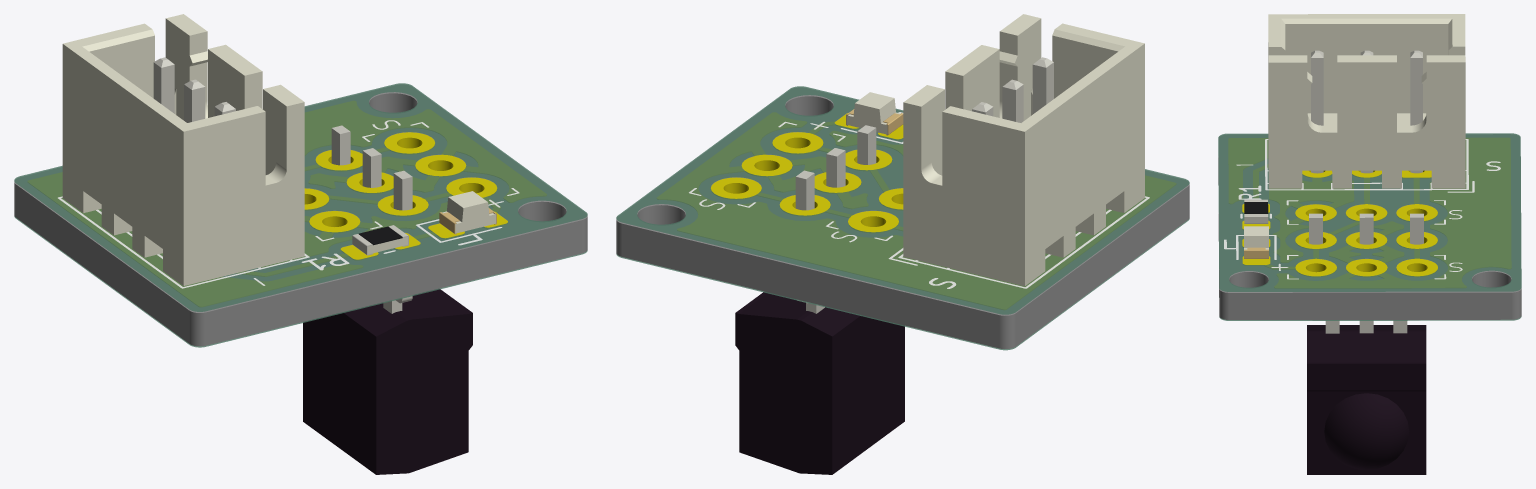
The picture shows the model from 3 angles, left to right: view 1: azimuth 30°, elevation 25°; view 2: azimuth 150°, elevation 25°; view 3: azimuth 270°, elevation 25°; orthographic projection. The views are drawn at different scales.
Parts seen in each view (by area): view 1: J1, J1.001, J1.002, J1.003, J1.004; view 2: J1, J1.001, J1.002, J1.003; view 3: J1, J1.001, J1.002, J1.003, J1.004.
Part boxes in pixels (x1,y1,x2,y2): J1: [14, 83, 587, 347]; J1.001: [62, 14, 304, 285]; J1.002: [303, 125, 472, 474]; J1.003: [439, 191, 496, 234]; J1.004: [352, 225, 408, 255]; J1: [616, 86, 1189, 350]; J1.001: [903, 14, 1144, 286]; J1.002: [735, 125, 904, 474]; J1.003: [846, 92, 903, 135]; J1: [1218, 133, 1521, 320]; J1.001: [1268, 14, 1465, 188]; J1.002: [1307, 213, 1426, 474]; J1.003: [1244, 226, 1268, 258]; J1.004: [1244, 199, 1268, 223].
Size of the model in its own units: 91.6 by 92.25 by 73.94.
